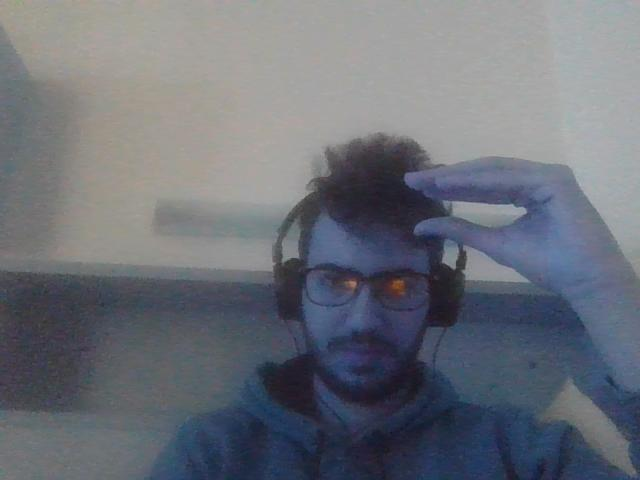no: (401, 153, 603, 280)
